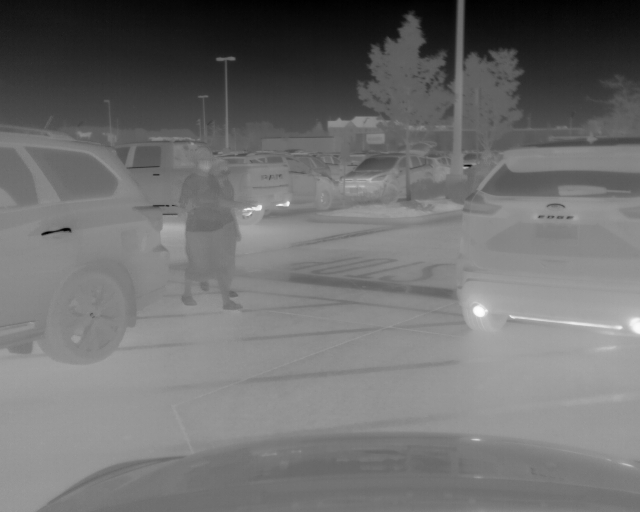car: (1, 123, 171, 365), (457, 137, 640, 343), (117, 141, 291, 223), (222, 151, 339, 221), (346, 149, 444, 207)
people: (179, 147, 242, 310), (215, 155, 238, 296)
